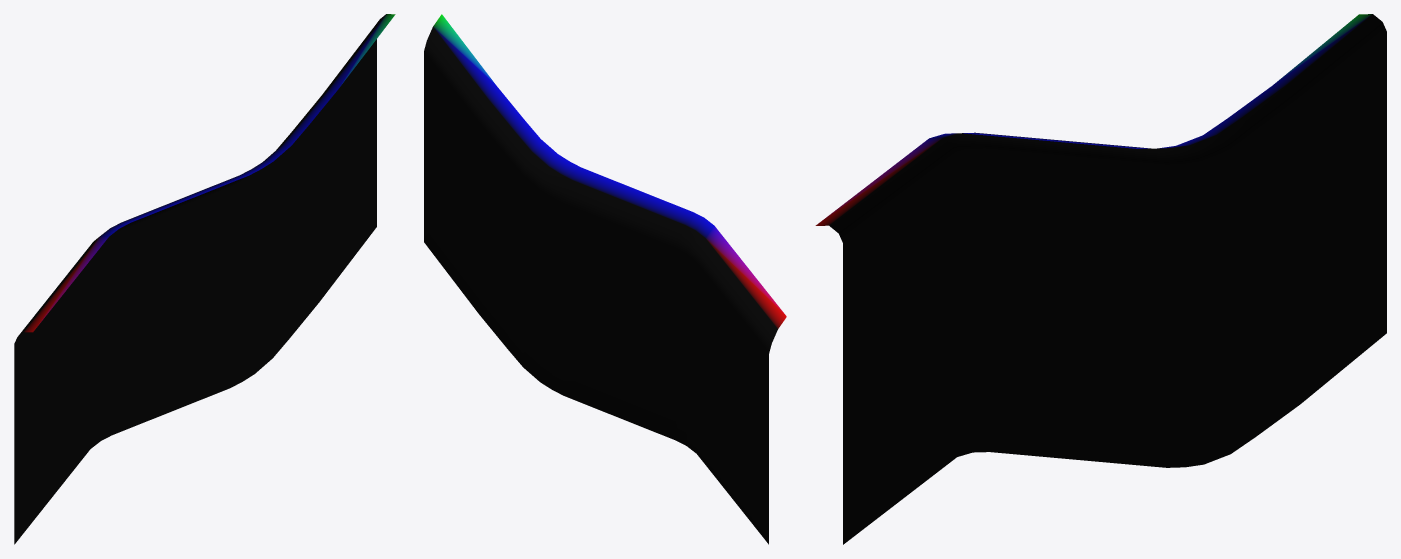
File: 3DSlope03.fbx
The picture shows the model from 3 angles, left to right: view 1: azimuth 30°, elevation 25°; view 2: azimuth 150°, elevation 25°; view 3: azimuth 330°, elevation 25°; orthographic projection. The views are drawn at different scales.
Parts seen in each view (by area): view 1: Slope03; view 2: Slope03; view 3: Slope03.
Part boxes in pixels (x1,y1,x2,y2): Slope03: [14, 14, 395, 544]; Slope03: [424, 14, 786, 544]; Slope03: [815, 14, 1386, 544].
Bounding box in the file's own units: 8701 × 10452 × 777.
